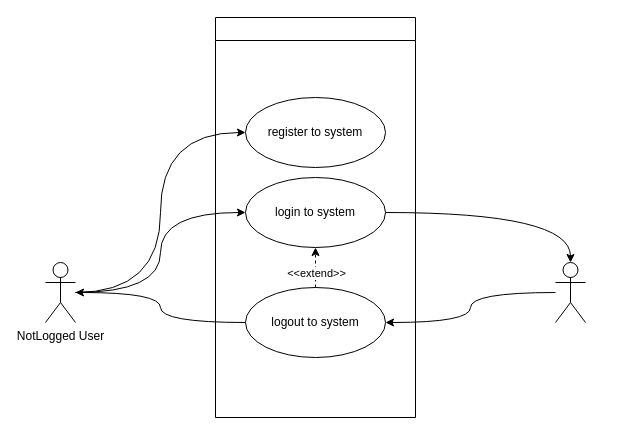
Some shapes in this 622 by 435 pixel diagram are drawn without their labels. Each missing label, with the box of its shape:
Authentication: (214, 16, 416, 418)
Logged User: (554, 262, 586, 322)
